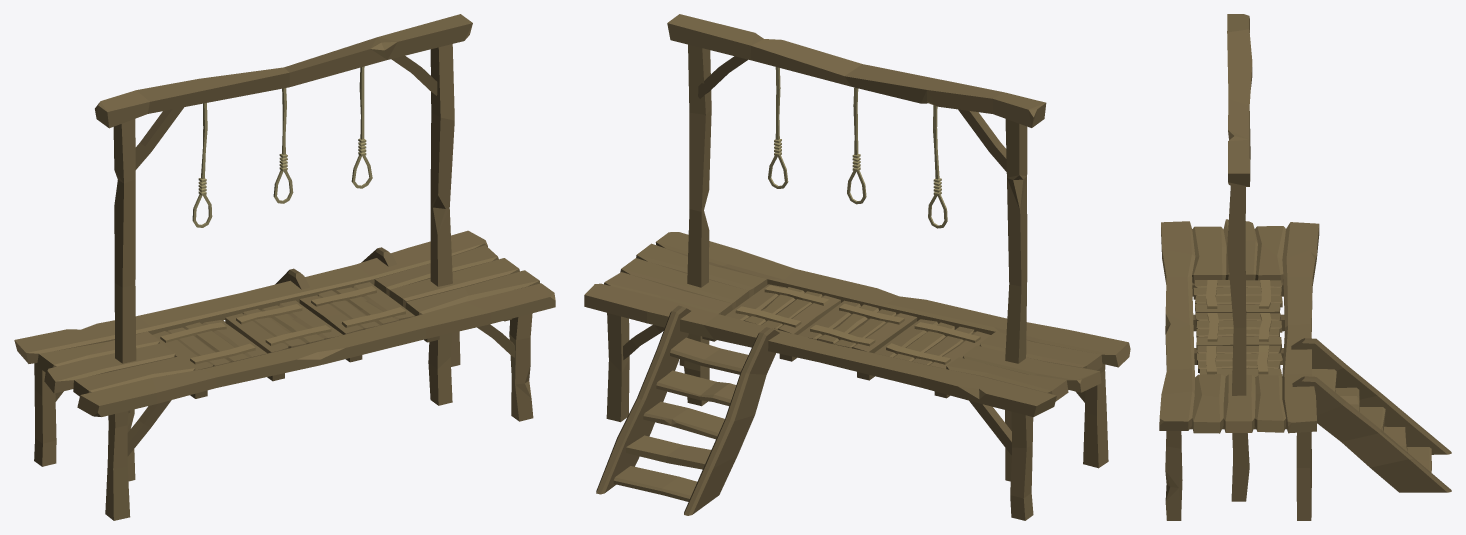
The model's file is Gallows_2.fbx.
3 views of the same model, side by side, from view 1: azimuth 30°, elevation 25°; view 2: azimuth 150°, elevation 25°; view 3: azimuth 270°, elevation 25° (orthographic). The views are drawn at different scales.
Parts seen in each view (by area): view 1: Gallows_2, Gallows_2_Trapdoor2, Gallows_2_Trapdoor3, Gallows_2_Trapdoor1; view 2: Gallows_2, Gallows_2_Trapdoor2, Gallows_2_Trapdoor3, Gallows_2_Trapdoor1; view 3: Gallows_2, Gallows_2_Trapdoor2, Gallows_2_Trapdoor1, Gallows_2_Trapdoor3.
Boxes of the visible parts, box(x1,y1,x2,y2) form: Gallows_2: box(14, 14, 555, 520); Gallows_2_Trapdoor2: box(225, 300, 342, 353); Gallows_2_Trapdoor3: box(299, 282, 414, 334); Gallows_2_Trapdoor1: box(152, 320, 266, 370); Gallows_2: box(584, 14, 1130, 520); Gallows_2_Trapdoor2: box(798, 300, 917, 352); Gallows_2_Trapdoor3: box(725, 284, 840, 334); Gallows_2_Trapdoor1: box(874, 319, 990, 368); Gallows_2: box(1159, 14, 1451, 520); Gallows_2_Trapdoor2: box(1195, 313, 1282, 349); Gallows_2_Trapdoor1: box(1193, 280, 1282, 313); Gallows_2_Trapdoor3: box(1197, 345, 1282, 377).
Size of the model in its own units: 628 by 486 by 379.
